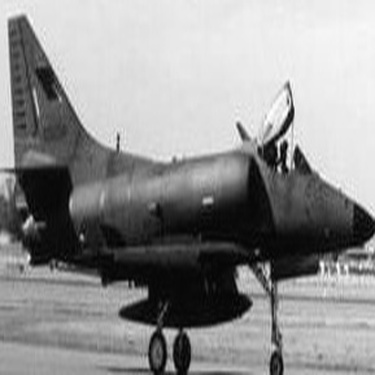airplane: (3, 4, 370, 369)
